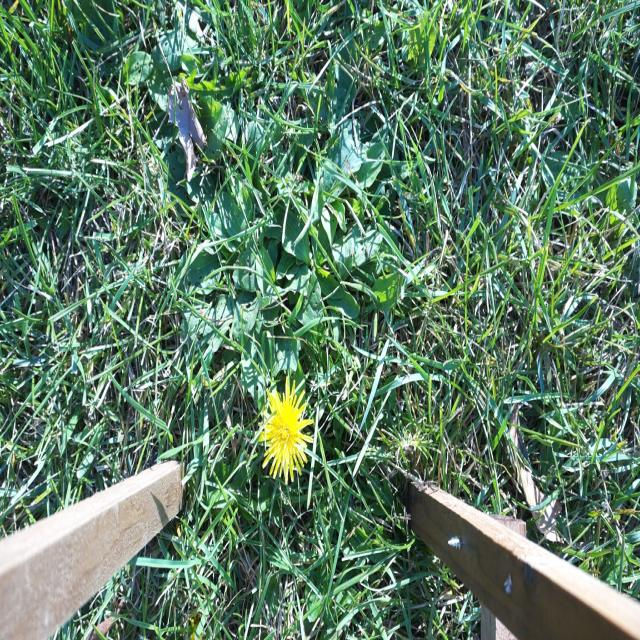flower: (260, 383, 310, 475)
